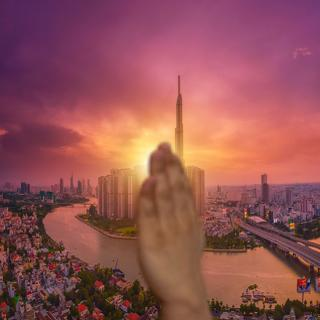RIGHT: (129, 136, 213, 301)
